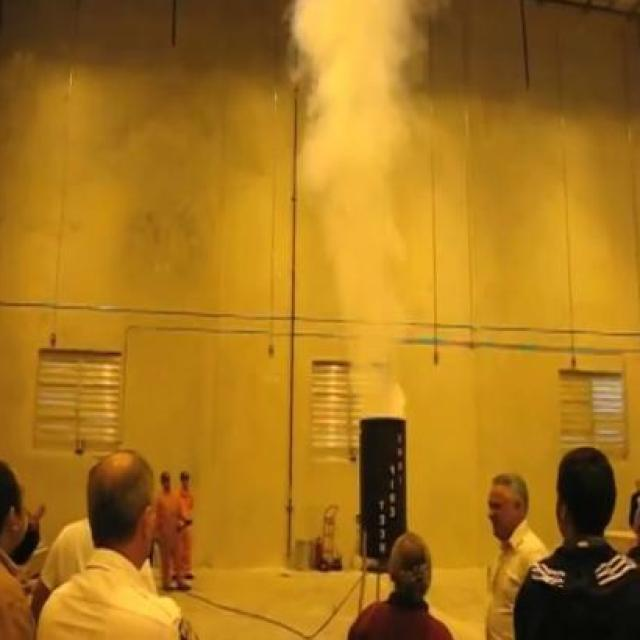fire: (284, 0, 437, 417)
